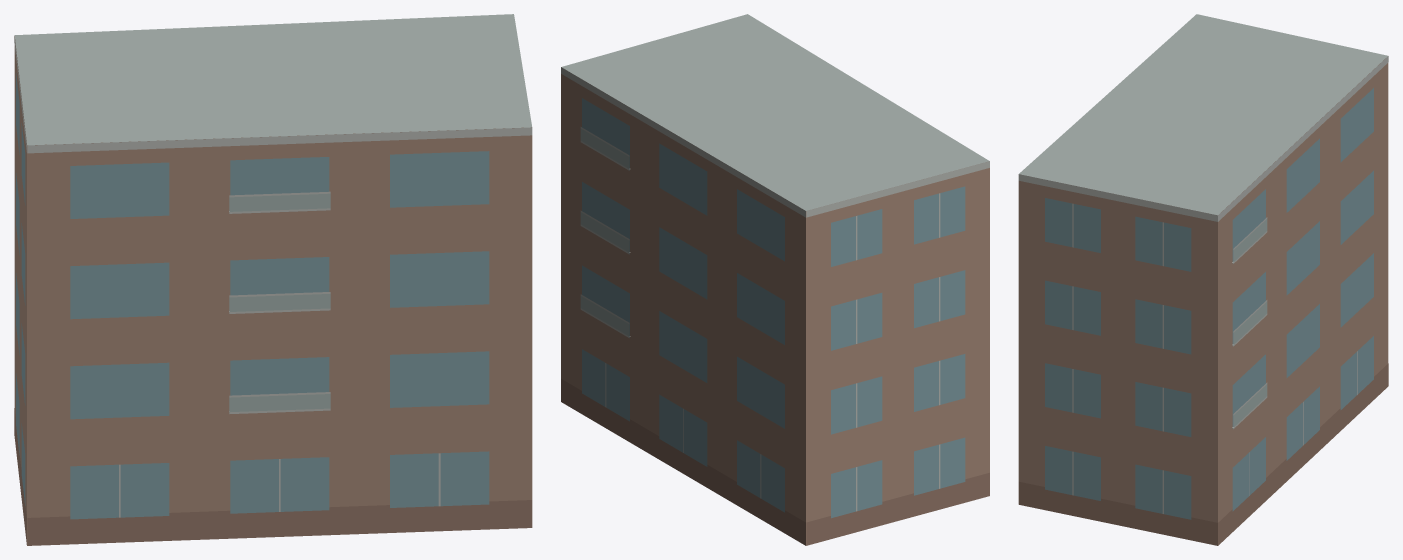
File: survey-upis-32907791.glb
3 renders of one model, left to right at view 1: azimuth 30°, elevation 25°; view 2: azimuth 150°, elevation 25°; view 3: azimuth 270°, elevation 25°, orthographic. The views are drawn at different scales.
Parts seen in each view (by area): view 1: survey-upis-32907791.tmp; view 2: survey-upis-32907791.tmp; view 3: survey-upis-32907791.tmp.
Part boxes in pixels (<box>): survey-upis-32907791.tmp: <box>14,14,532,545</box>; survey-upis-32907791.tmp: <box>561,14,989,545</box>; survey-upis-32907791.tmp: <box>1018,14,1388,545</box>.
Size of the model in its own units: 15.94 by 12.2 by 12.38.
